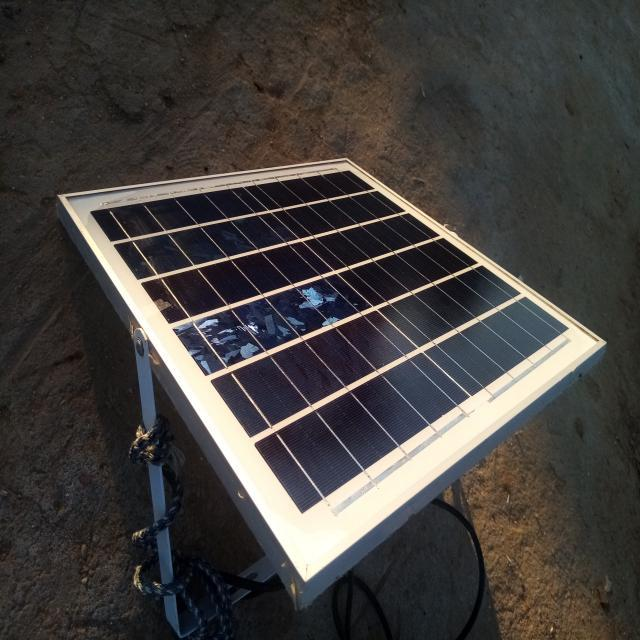no faulty: (63, 158, 606, 583)
